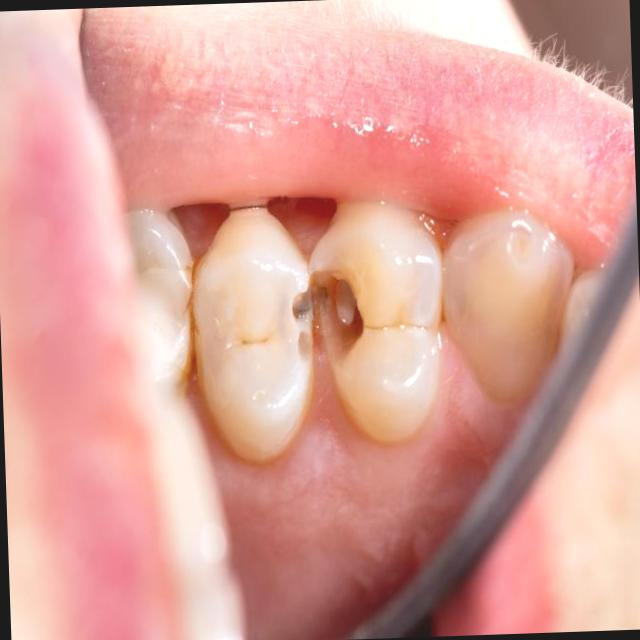caries: (306, 200, 452, 448), (188, 200, 321, 470)
